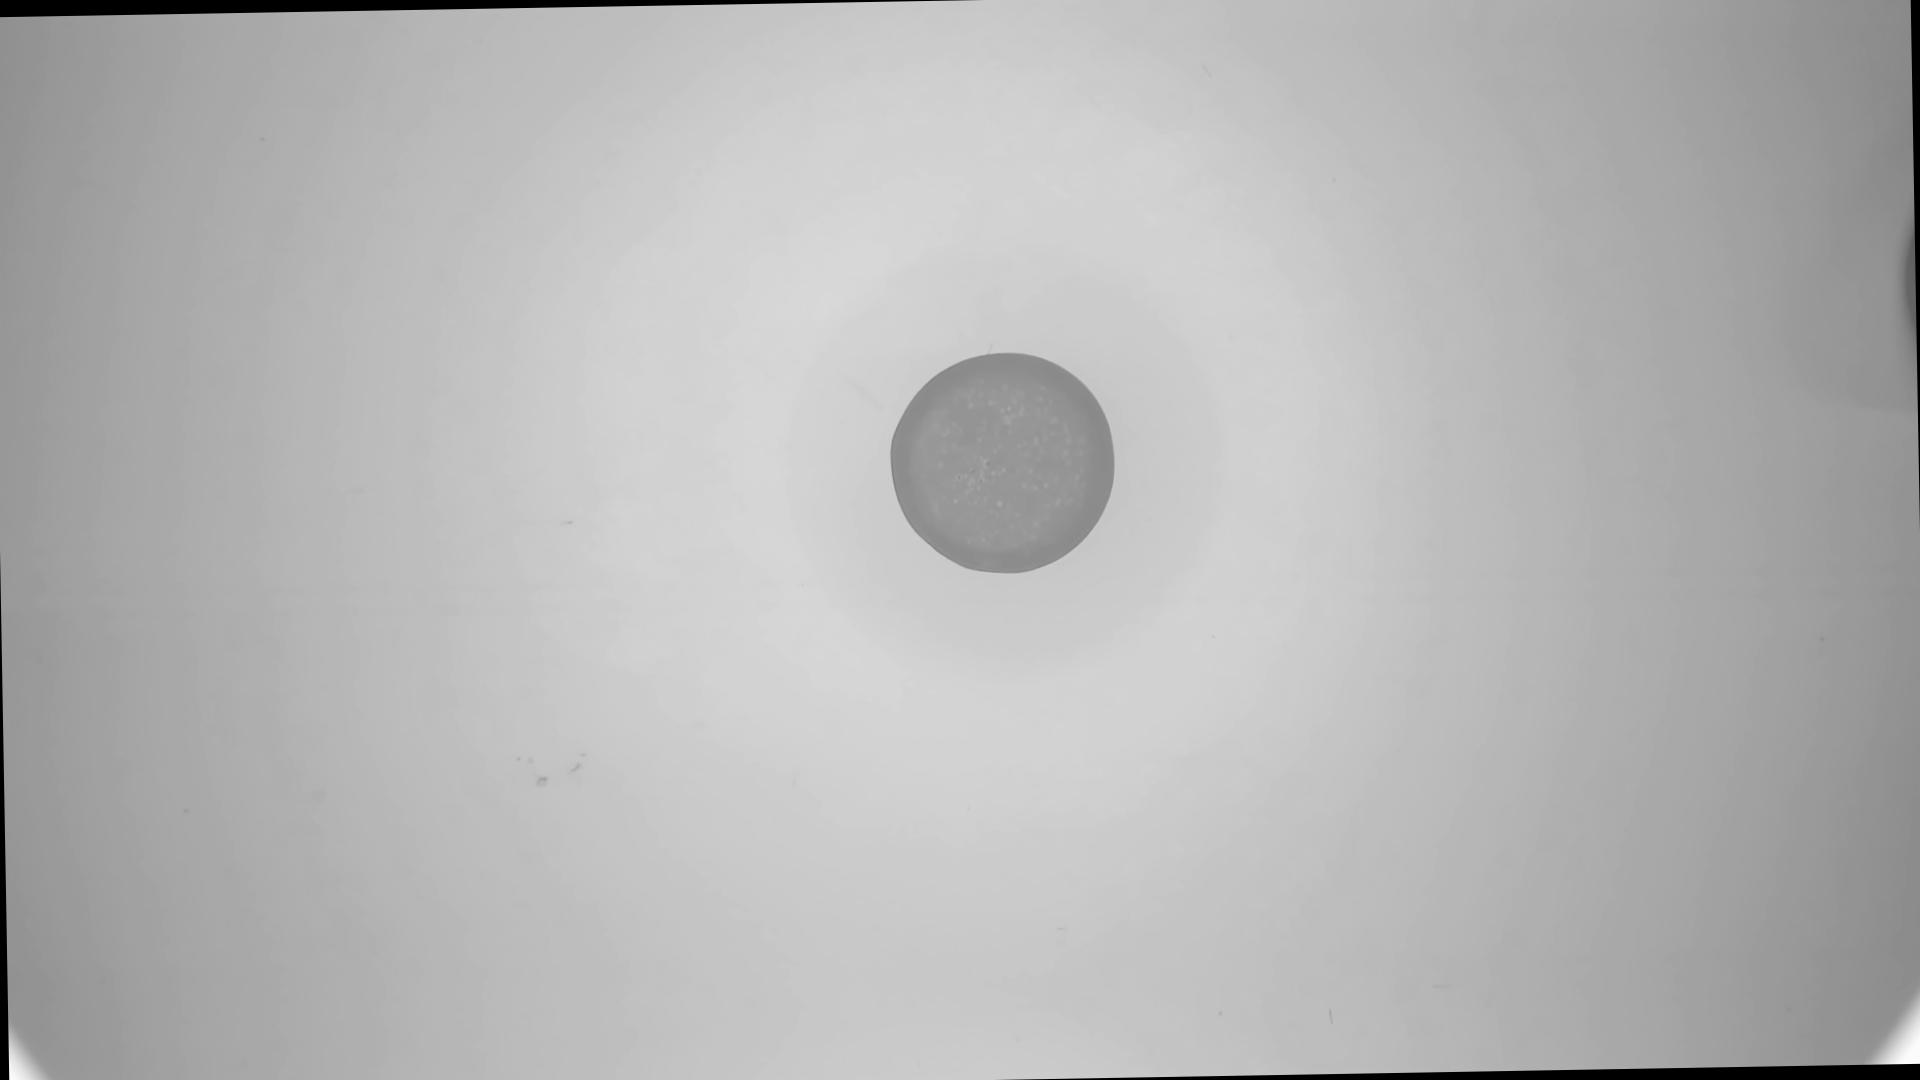normal: (887, 348, 1121, 579)
